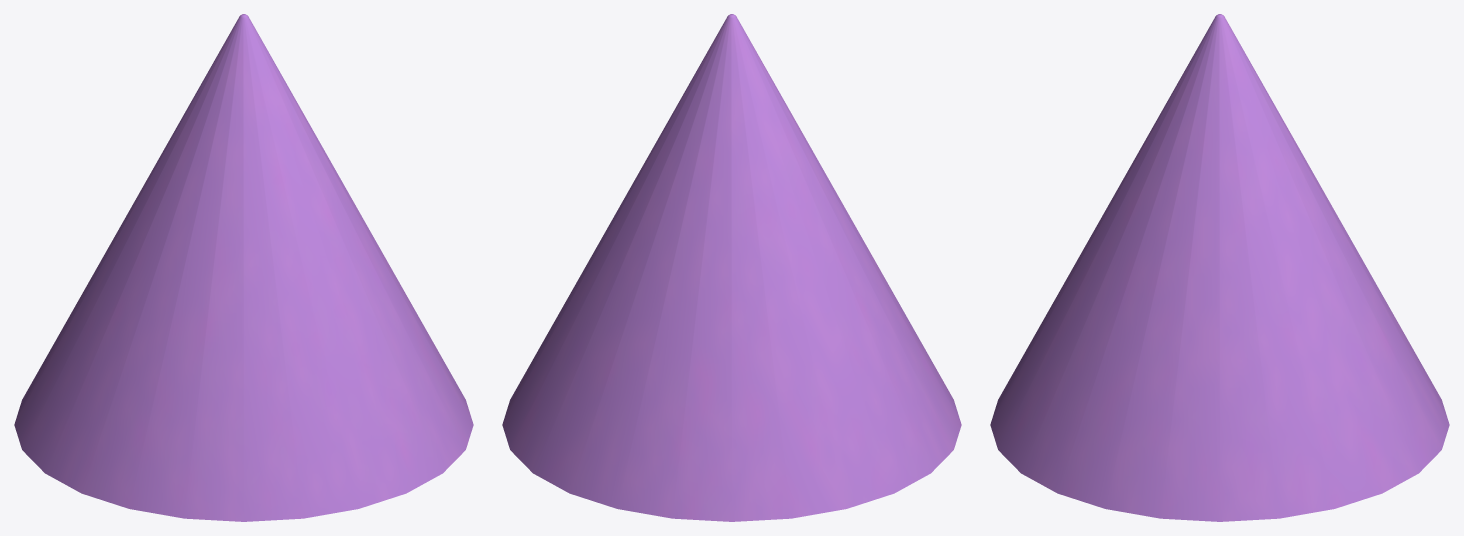
Rendered from ConeSmall_1.fbx.
3 renders of one model, left to right at view 1: azimuth 30°, elevation 25°; view 2: azimuth 150°, elevation 25°; view 3: azimuth 270°, elevation 25°, orthographic.
Visible parts, largest first — view 1: Cone.002; view 2: Cone.002; view 3: Cone.002.
Part boxes in pixels (left/top/right/bottom): Cone.002: left=14, top=14, right=473, bottom=521; Cone.002: left=502, top=14, right=961, bottom=521; Cone.002: left=990, top=14, right=1449, bottom=521.
Bounding box in the file's own units: 200 × 197 × 200.
